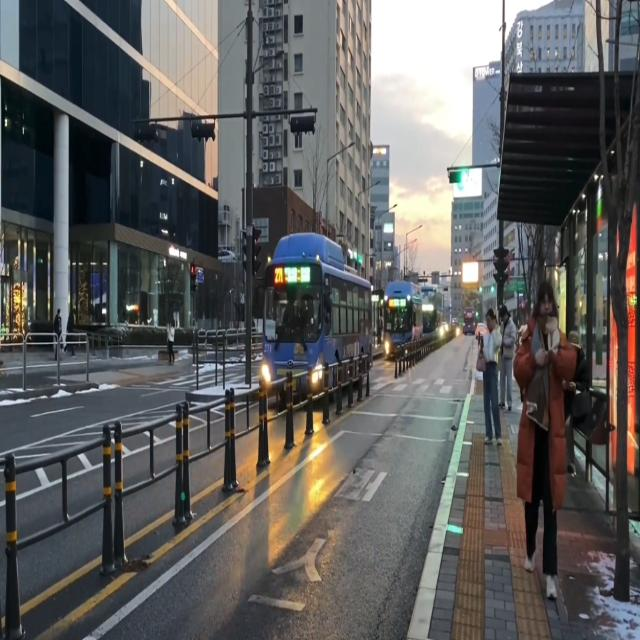bus-number: (274, 267, 284, 283)
